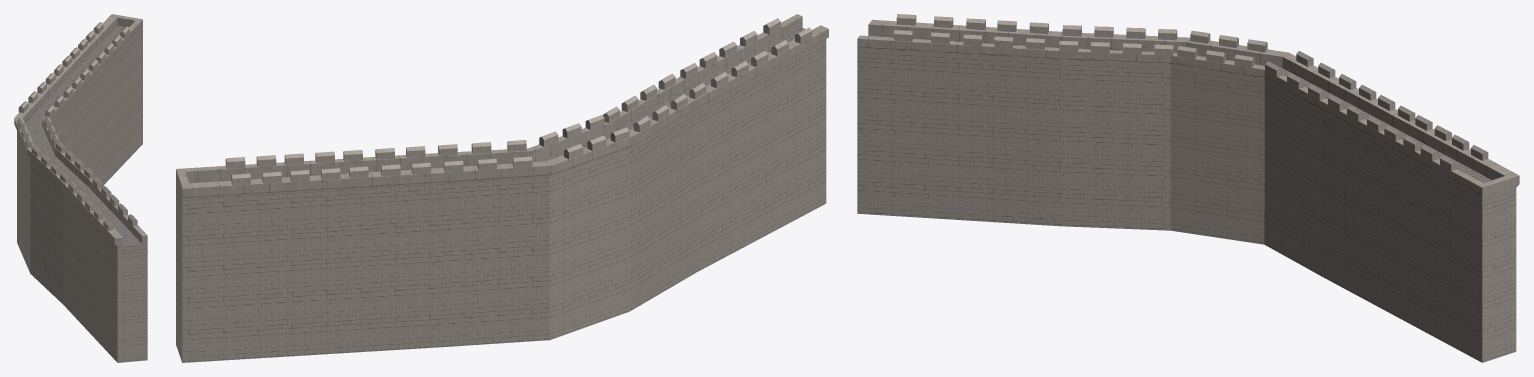
File: CastleWall_G.fbx
3 renders of one model, left to right at view 1: azimuth 30°, elevation 25°; view 2: azimuth 150°, elevation 25°; view 3: azimuth 270°, elevation 25°, orthographic. The views are drawn at different scales.
Parts seen in each view (by area): view 1: CastleWall_G; view 2: CastleWall_G; view 3: CastleWall_G.
Boxes of the visible parts, x1,y1,x2,y2 form: CastleWall_G: (14, 14, 147, 362); CastleWall_G: (176, 14, 828, 362); CastleWall_G: (857, 14, 1519, 362).
Size of the model in its own units: 10795 by 5515 by 17965.
Materials: 2 (2 with a texture image).
